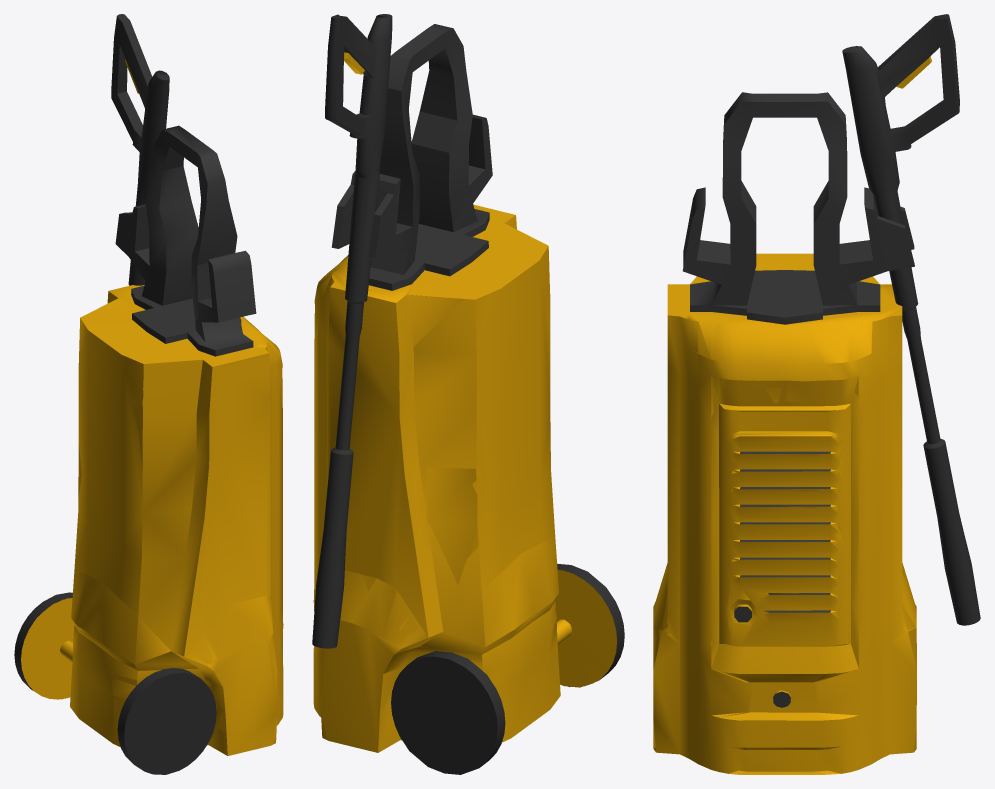
File: WaterSprinkler.fbx
The picture shows the model from 3 angles, left to right: view 1: azimuth 30°, elevation 25°; view 2: azimuth 150°, elevation 25°; view 3: azimuth 270°, elevation 25°; orthographic projection. The views are drawn at different scales.
Parts seen in each view (by area): view 1: Cylinder.009; view 2: Cylinder.009; view 3: Cylinder.009.
Part boxes in pixels (left/top/right/bottom): Cylinder.009: left=14, top=14, right=283, bottom=774; Cylinder.009: left=312, top=14, right=624, bottom=774; Cylinder.009: left=653, top=14, right=980, bottom=774.
Size of the model in its own units: 416 by 1355 by 551.
